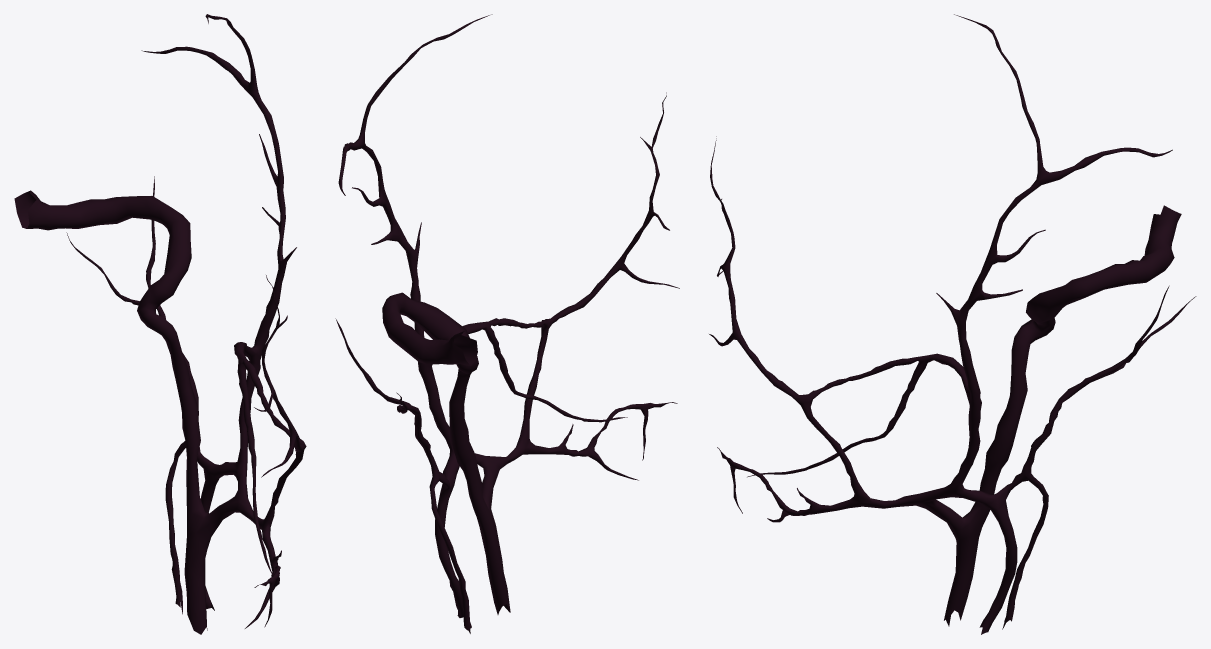
Rendered from Veins_Intercostales_dorsales_lower.006.obj.
The picture shows the model from 3 angles, left to right: view 1: azimuth 30°, elevation 25°; view 2: azimuth 150°, elevation 25°; view 3: azimuth 270°, elevation 25°; orthographic projection. The views are drawn at different scales.
Parts seen in each view (by area): view 1: Veins_Intercostales_dorsales_lower.006_Veins_lower.003; view 2: Veins_Intercostales_dorsales_lower.006_Veins_lower.003; view 3: Veins_Intercostales_dorsales_lower.006_Veins_lower.003.
Part boxes in pixels (x1=…): Veins_Intercostales_dorsales_lower.006_Veins_lower.003: x1=14, y1=14, x2=306, y2=634; Veins_Intercostales_dorsales_lower.006_Veins_lower.003: x1=335, y1=14, x2=679, y2=633; Veins_Intercostales_dorsales_lower.006_Veins_lower.003: x1=709, y1=14, x2=1196, y2=634.
Bounding box in the file's own units: 0.418 × 1.35 × 0.9705.
